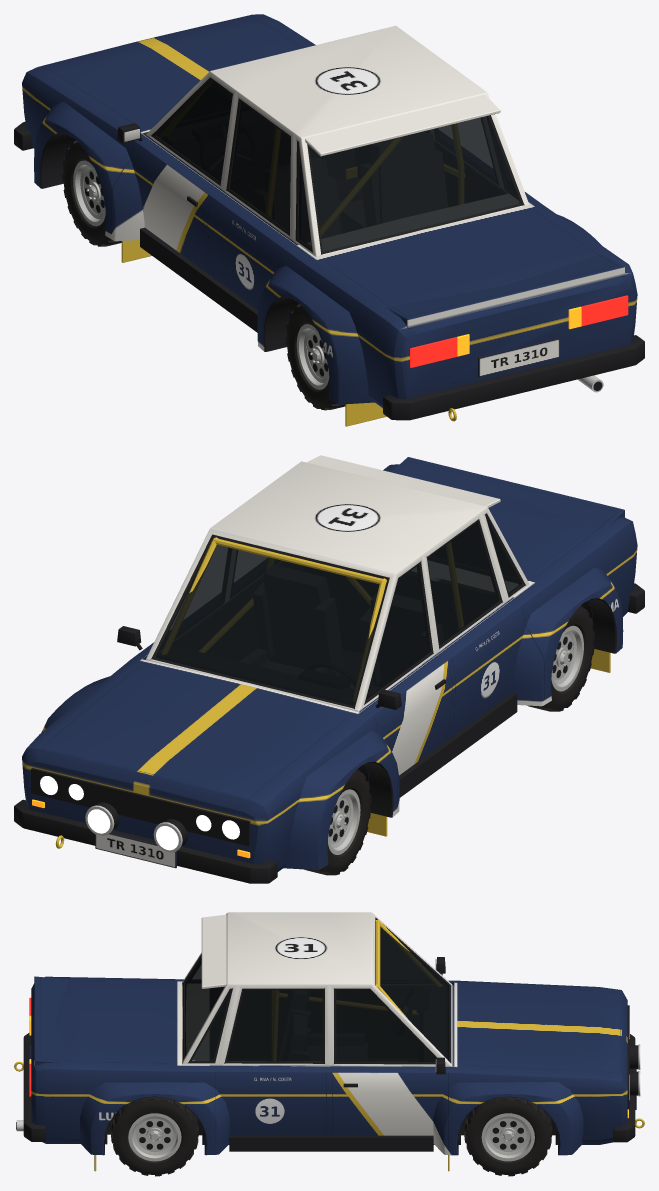
File: CAR-006_Export.fbx
3 views of the same model, one above another, from view 1: azimuth 30°, elevation 25°; view 2: azimuth 150°, elevation 25°; view 3: azimuth 270°, elevation 25° (orthographic). The views are drawn at different scales.
Visible parts, largest first — view 1: CAR-006_Body, CAR-006_Glass, CAR-006_Spoiler, CAR-006_Bumper_Rear, CAR-006_Trim, CAR-006_Lights, CAR-006_Wheel_RL_Tire, CAR-006_Wheel_FL_Tire, CAR-006_Wheel_FL_Rim, CAR-006_Wheel_RL_Rim, CAR-006_MudFlaps; view 2: CAR-006_Body, CAR-006_Glass, CAR-006_Trim, CAR-006_Spoiler, CAR-006_Bumper_Front, CAR-006_Lights, CAR-006_Interior, CAR-006_Wheel_FL_Tire, CAR-006_Wheel_RL_Tire, CAR-006_Wheel_FL_Rim, CAR-006_Wheel_RL_Rim, CAR-006_Mirrors (+1 smaller); view 3: CAR-006_Body, CAR-006_Glass, CAR-006_Spoiler, CAR-006_Trim, CAR-006_Wheel_FR_Tire, CAR-006_Wheel_RR_Tire, CAR-006_Wheel_RR_Rim, CAR-006_Wheel_FR_Rim, CAR-006_Bumper_Rear, CAR-006_Lights, CAR-006_Bumper_Front, CAR-006_Interior.
Part boxes in pixels (x1,y1,x2,y2): CAR-006_Body: (22,14,637,407); CAR-006_Glass: (156,80,519,251); CAR-006_Spoiler: (305,95,624,329); CAR-006_Bumper_Rear: (383,335,644,420); CAR-006_Trim: (140,196,603,421); CAR-006_Lights: (410,295,628,367); CAR-006_Wheel_RL_Tire: (285,304,345,410); CAR-006_Wheel_FL_Tire: (62,140,121,246); CAR-006_Wheel_FL_Rim: (73,160,105,226); CAR-006_Wheel_RL_Rim: (296,324,329,389); CAR-006_MudFlaps: (121,240,386,426); CAR-006_Body: (22,461,637,871); CAR-006_Glass: (155,522,521,705); CAR-006_Trim: (31,679,517,868); CAR-006_Spoiler: (306,455,624,529); CAR-006_Bumper_Front: (14,799,277,883); CAR-006_Lights: (32,776,250,858); CAR-006_Interior: (189,537,386,638); CAR-006_Wheel_FL_Tire: (304,769,371,875); CAR-006_Wheel_RL_Tire: (527,606,594,711); CAR-006_Wheel_FL_Rim: (328,789,360,854); CAR-006_Wheel_RL_Rim: (551,625,583,691); CAR-006_Mirrors: (117,626,401,709); CAR-006_Body: (31,912,627,1155); CAR-006_Glass: (185,927,448,1061); CAR-006_Spoiler: (34,914,226,1067); CAR-006_Trim: (14,1005,644,1151); CAR-006_Wheel_FR_Tire: (464,1097,552,1176); CAR-006_Wheel_RR_Tire: (111,1097,198,1176); CAR-006_Wheel_RR_Rim: (128,1113,181,1161); CAR-006_Wheel_FR_Rim: (481,1113,534,1161); CAR-006_Bumper_Rear: (23,1033,45,1141); CAR-006_Lights: (29,997,641,1118); CAR-006_Bumper_Front: (613,1034,635,1142); CAR-006_Interior: (213,920,409,1061).
Size of the model in its own units: 1.85 by 1.4 by 4.45.
17 materials, 2 textured.
